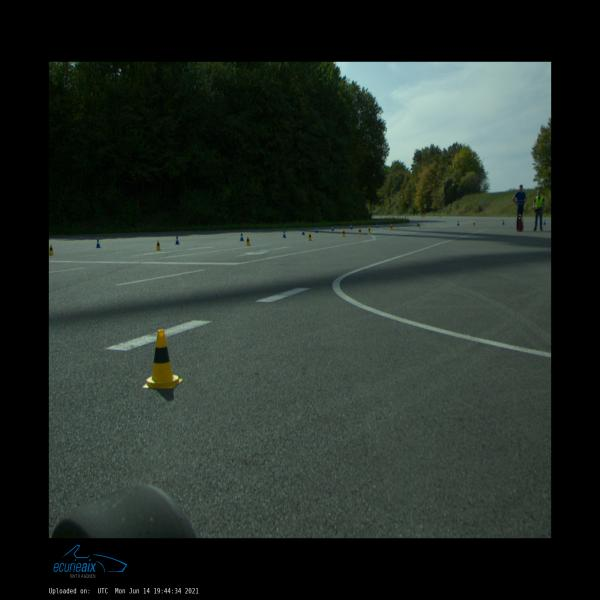blue_cone: (174, 236, 180, 245), (96, 239, 101, 248), (240, 233, 244, 241), (282, 231, 286, 238), (301, 229, 305, 235), (315, 227, 318, 233), (543, 220, 546, 225), (331, 226, 334, 231), (350, 224, 352, 230), (502, 220, 504, 224), (457, 221, 459, 225), (376, 224, 378, 228)
yellow_cone: (143, 330, 183, 389), (49, 244, 55, 255), (245, 236, 251, 246), (156, 240, 161, 251), (308, 232, 312, 240), (342, 229, 346, 236), (358, 228, 362, 234), (368, 227, 371, 233), (390, 225, 393, 230), (473, 221, 475, 227), (418, 222, 420, 228)
